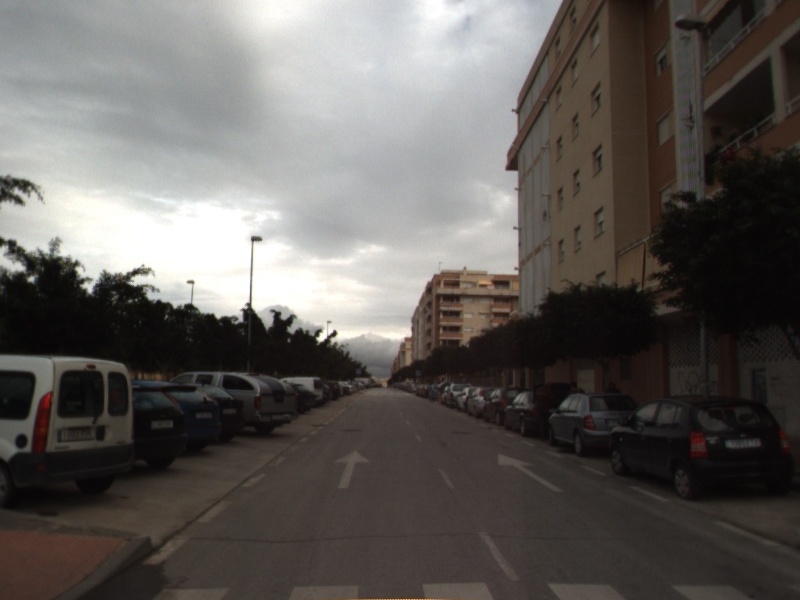STRAIGHT: (496, 452, 566, 494), (332, 448, 372, 490)
